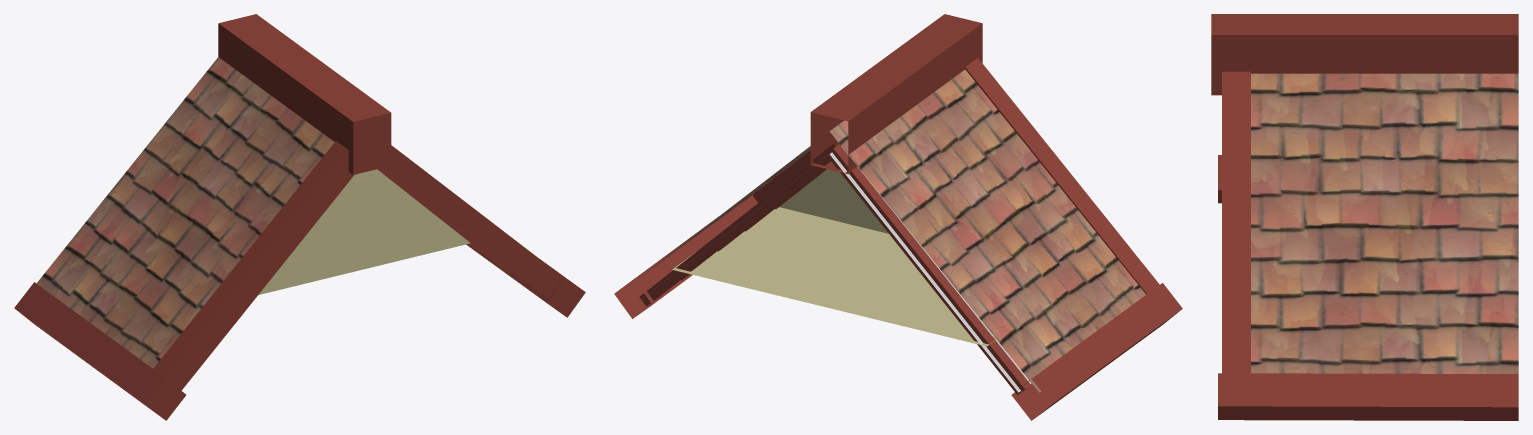
File: roof_6x3x4_head.fbx
3 views of the same model, side by side, from view 1: azimuth 30°, elevation 25°; view 2: azimuth 150°, elevation 25°; view 3: azimuth 270°, elevation 25° (orthographic). The views are drawn at different scales.
Parts seen in each view (by area): view 1: roof_6x3x4_head; view 2: roof_6x3x4_head; view 3: roof_6x3x4_head.
Part boxes in pixels (box(x1,y1,x2,y2)): roof_6x3x4_head: box(14, 14, 585, 420); roof_6x3x4_head: box(614, 14, 1182, 420); roof_6x3x4_head: box(1211, 14, 1518, 420).
Bounding box in the file's own units: 833 × 464 × 442.
